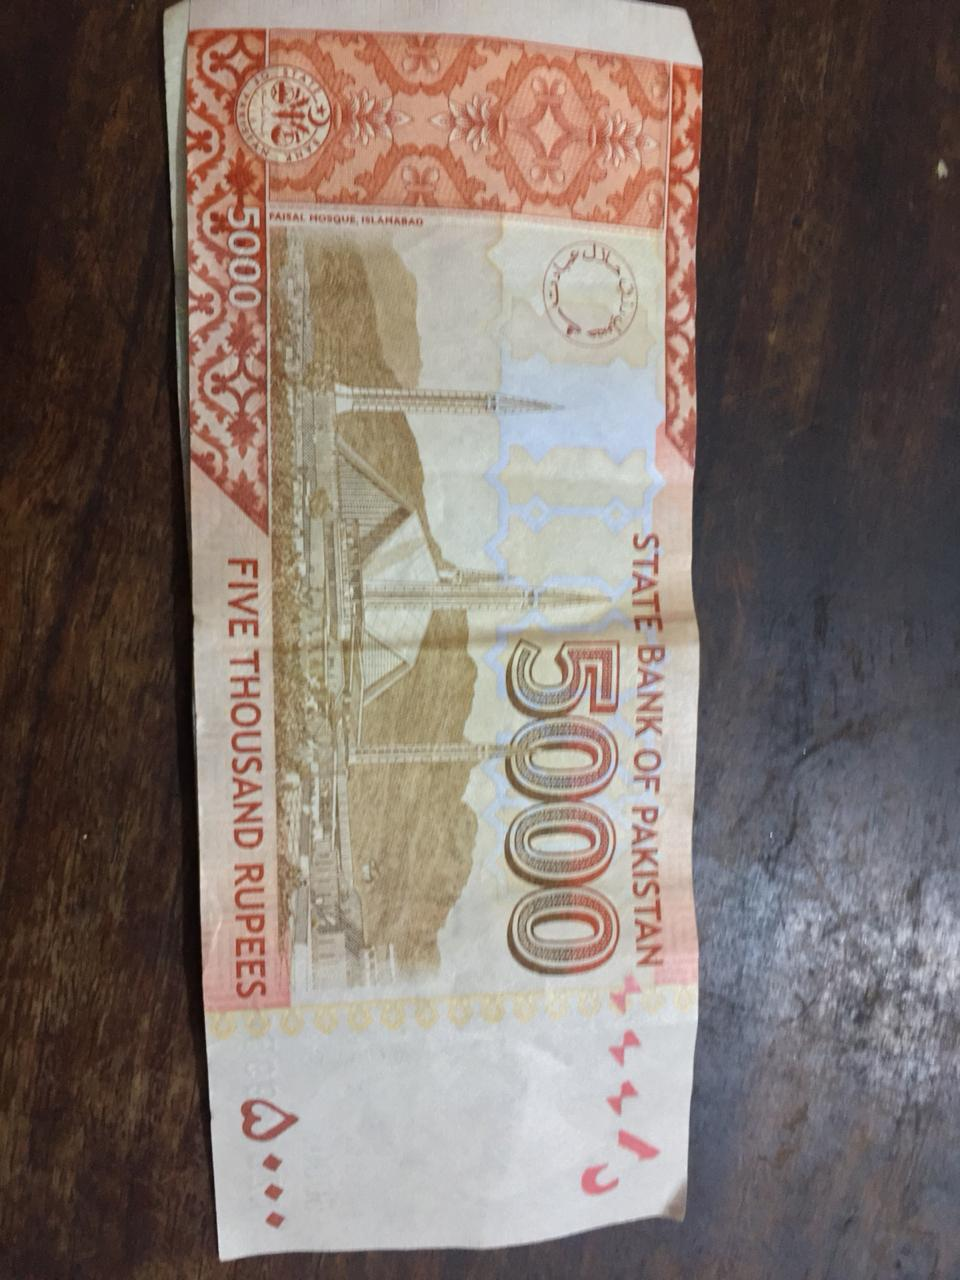5000 rupee: (164, 22, 725, 1242)
